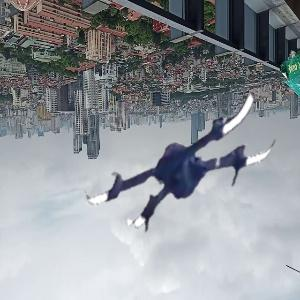drone: (80, 54, 275, 249)
